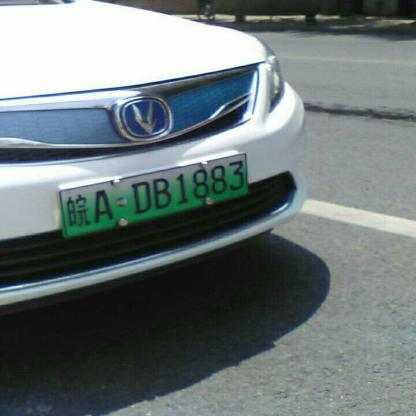lp: (60, 152, 249, 236)
